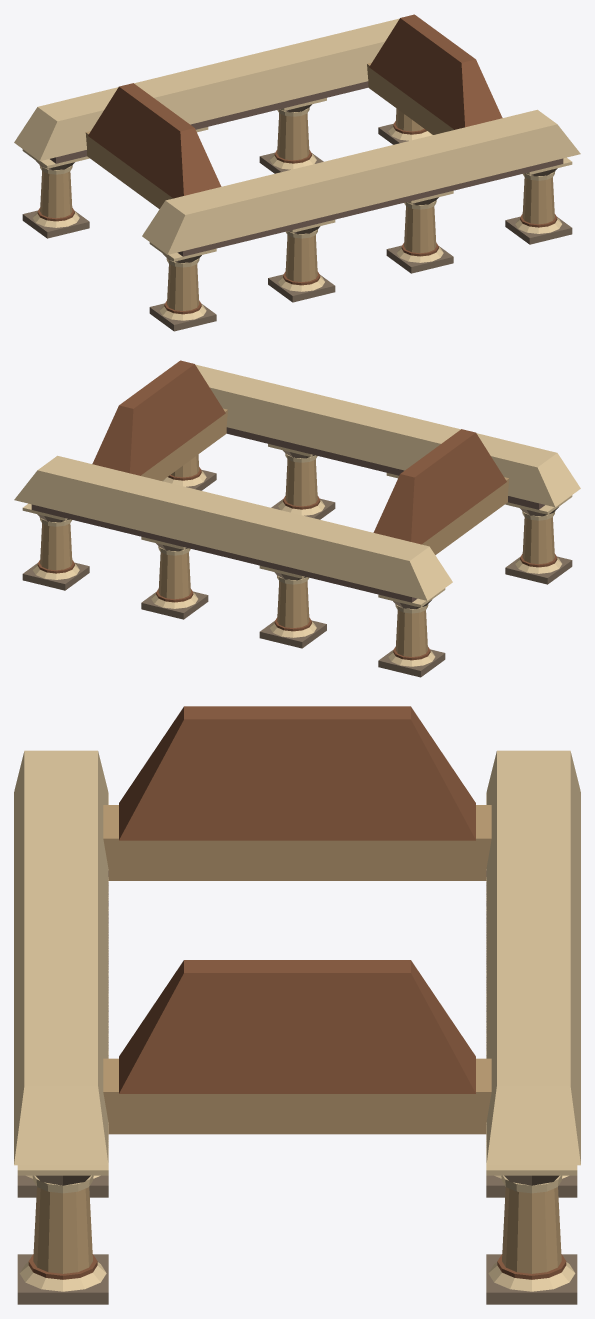
Rendered from lanka-architecture.glb.
3 views of the same model, one above another, from view 1: azimuth 30°, elevation 25°; view 2: azimuth 150°, elevation 25°; view 3: azimuth 270°, elevation 25° (orthographic). The views are drawn at different scales.
Visible parts, largest first — view 1: Gallery eave 1, Gallery eave -1, Monitor cap -1, Monitor cap 1, Long beam 1, Crossbeam -1, Crossbeam 1, Long beam -1, Column -1.3 shaft, Column 1.4 shaft, Column -1.1 shaft, Column 1.1 shaft (+7 smaller); view 2: Gallery eave -1, Gallery eave 1, Monitor cap -1, Monitor cap 1, Long beam -1, Crossbeam -1, Crossbeam 1, Long beam 1, Column 1.3 shaft, Column -1.4 shaft, Column 1.1 shaft, Column -1.1 shaft (+7 smaller); view 3: Monitor cap -1, Monitor cap 1, Gallery eave -1, Gallery eave 1, Crossbeam 1, Crossbeam -1, Column -1.4 shaft, Column 1.4 shaft, Column -1.4 bottom course, Column 1.4 bottom course, Column -1.4 foot moulding, Column 1.4 foot moulding (+4 smaller).
Boxes of the visible parts, bbox=[...] form: Gallery eave 1: bbox=[142, 109, 580, 254]; Gallery eave -1: bbox=[14, 18, 399, 161]; Monitor cap -1: bbox=[88, 83, 221, 198]; Monitor cap 1: bbox=[369, 14, 502, 129]; Long beam 1: bbox=[177, 158, 563, 256]; Crossbeam -1: bbox=[85, 131, 172, 208]; Crossbeam 1: bbox=[367, 62, 453, 134]; Long beam -1: bbox=[50, 81, 368, 163]; Column -1.3 shaft: bbox=[277, 113, 309, 160]; Column 1.4 shaft: bbox=[522, 177, 554, 224]; Column -1.1 shaft: bbox=[40, 171, 72, 218]; Column 1.1 shaft: bbox=[167, 264, 199, 310]; Gallery eave -1: bbox=[14, 455, 452, 600]; Gallery eave 1: bbox=[195, 364, 580, 507]; Monitor cap -1: bbox=[373, 429, 506, 544]; Monitor cap 1: bbox=[92, 360, 225, 475]; Long beam -1: bbox=[31, 504, 417, 602]; Crossbeam -1: bbox=[422, 477, 509, 554]; Crossbeam 1: bbox=[141, 408, 227, 480]; Long beam 1: bbox=[226, 427, 544, 509]; Column 1.3 shaft: bbox=[285, 459, 317, 506]; Column -1.4 shaft: bbox=[40, 523, 72, 570]; Column 1.1 shaft: bbox=[522, 517, 554, 564]; Column -1.1 shaft: bbox=[395, 610, 427, 656]; Monitor cap -1: bbox=[119, 706, 475, 840]; Monitor cap 1: bbox=[119, 960, 475, 1093]; Gallery eave -1: bbox=[486, 750, 580, 1165]; Gallery eave 1: bbox=[14, 750, 108, 1165]; Crossbeam 1: bbox=[103, 1058, 491, 1134]; Crossbeam -1: bbox=[103, 805, 491, 880]; Column -1.4 shaft: bbox=[502, 1187, 561, 1273]; Column 1.4 shaft: bbox=[33, 1187, 92, 1273]; Column -1.4 bottom course: bbox=[486, 1254, 577, 1304]; Column 1.4 bottom course: bbox=[17, 1254, 108, 1304]; Column -1.4 foot moulding: bbox=[488, 1262, 575, 1291]; Column 1.4 foot moulding: bbox=[19, 1262, 106, 1291].
Bounding box in the file's own units: 14 × 5 × 9.
